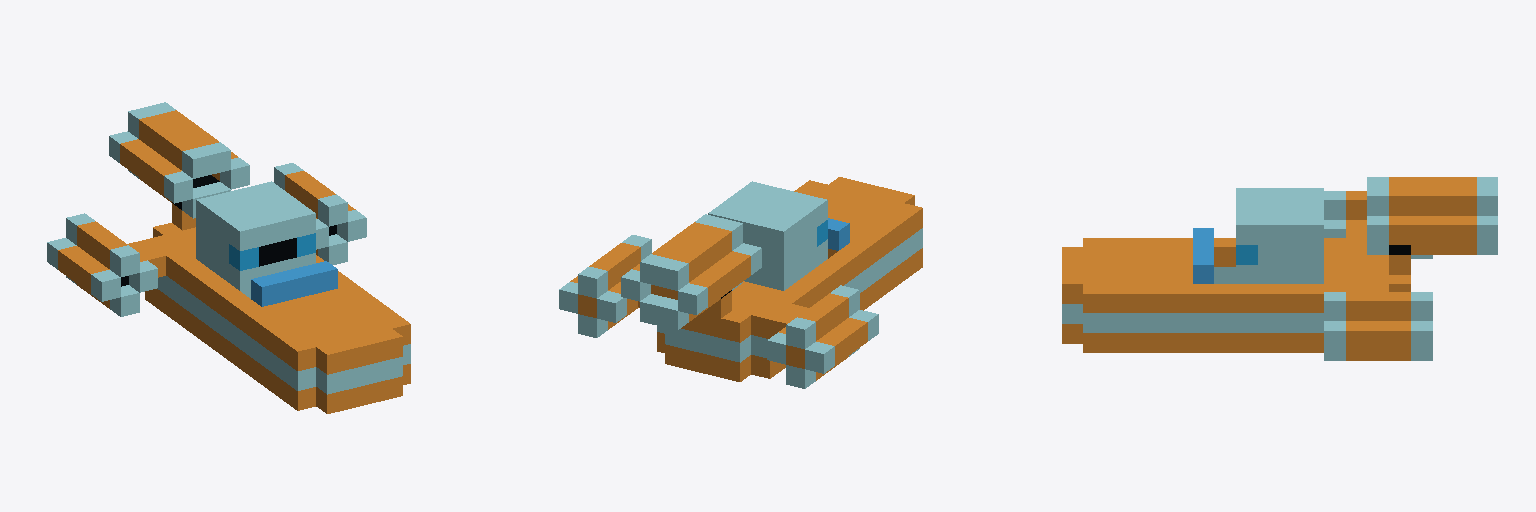
The picture shows the model from 3 angles: view 1: azimuth 30°, elevation 25°; view 2: azimuth 150°, elevation 25°; view 3: azimuth 270°, elevation 25°; orthographic projection.
Size of the model in its own units: 14 by 7 by 20.
1 materials, 1 textured.